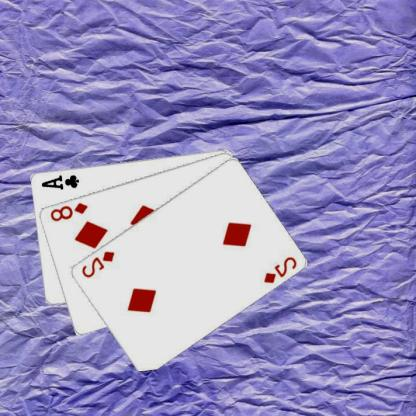2D: (80, 248, 117, 280), (262, 254, 300, 284)
8D: (49, 199, 91, 222)
AC: (40, 172, 82, 190)
